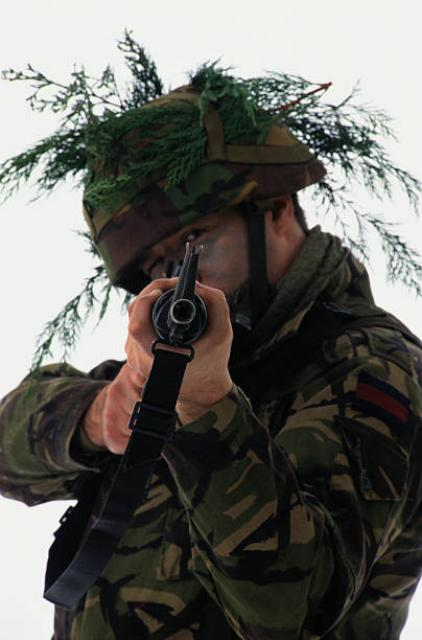other: (2, 54, 420, 634)
